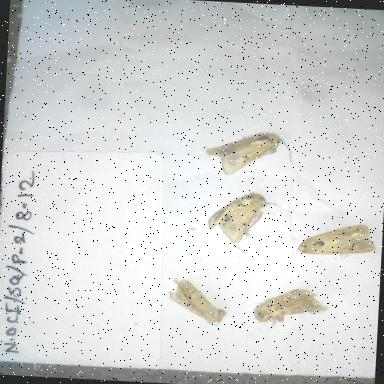abw: (195, 124, 302, 182), (202, 184, 283, 249), (242, 282, 333, 332), (287, 216, 382, 262), (162, 272, 234, 332)
